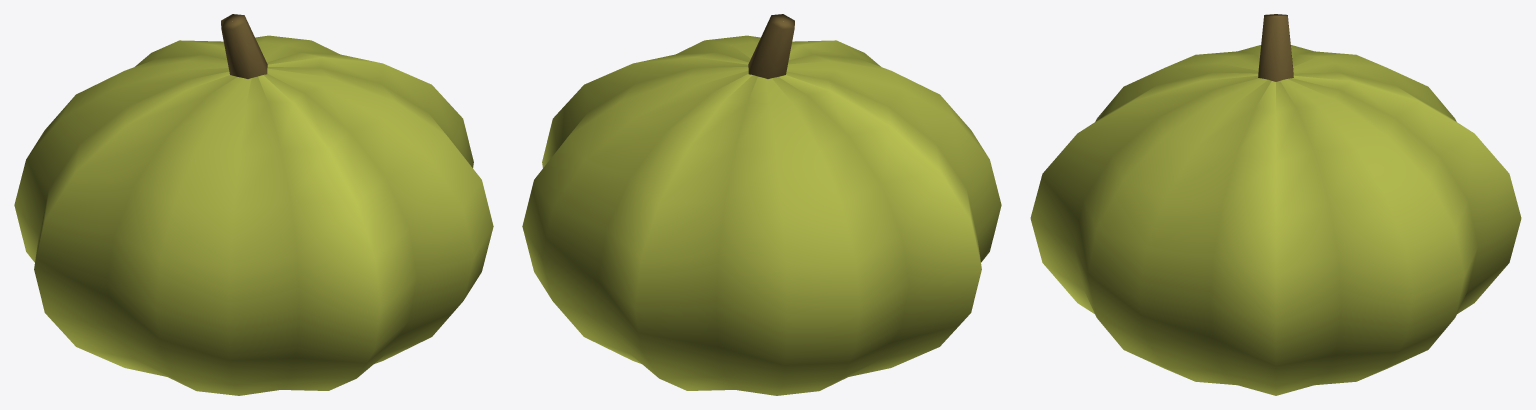
File: fruit-pumpkin-unripe.glb
The picture shows the model from 3 angles, left to right: view 1: azimuth 30°, elevation 25°; view 2: azimuth 150°, elevation 25°; view 3: azimuth 270°, elevation 25°; orthographic projection. The views are drawn at different scales.
Visible parts, largest first — view 1: fruit-pumpkin-unripe; view 2: fruit-pumpkin-unripe; view 3: fruit-pumpkin-unripe.
Boxes of the visible parts, x1,y1,x2,y2 form: fruit-pumpkin-unripe: (14,14,493,395); fruit-pumpkin-unripe: (522,14,1001,395); fruit-pumpkin-unripe: (1030,14,1521,395).
Bounding box in the file's own units: 1.08 × 0.826 × 1.08.
